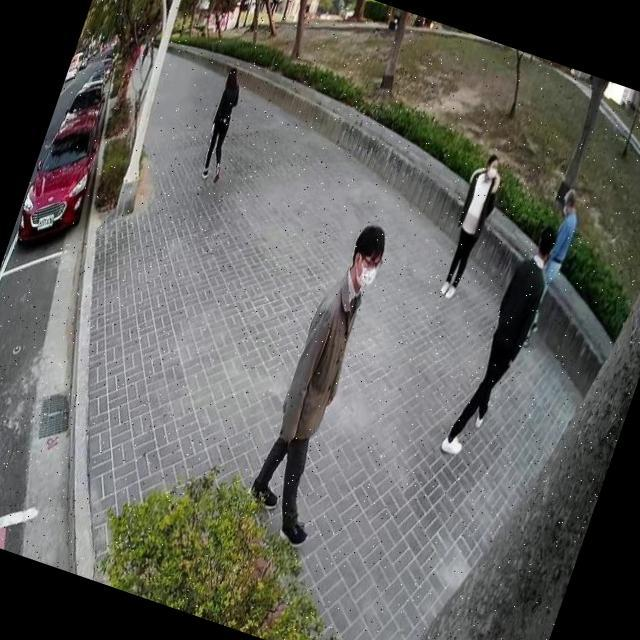person: (234, 205, 416, 558), (437, 208, 570, 469), (430, 146, 514, 306), (512, 182, 589, 352), (189, 56, 261, 192)
